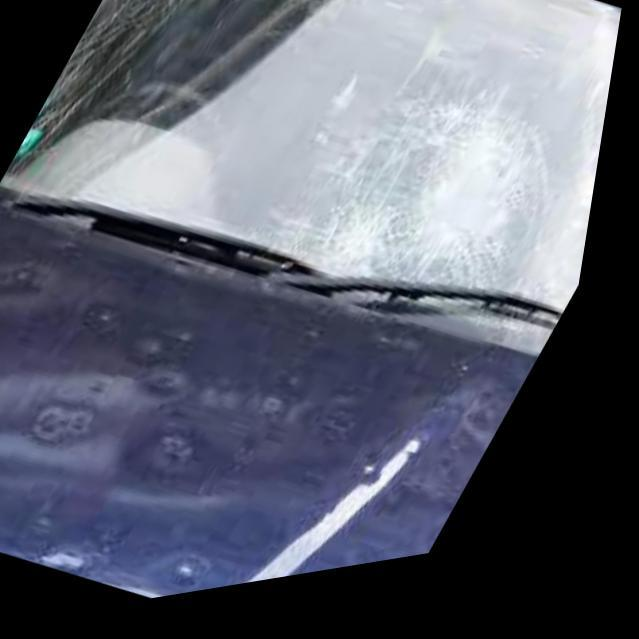glass shatter: (298, 112, 547, 312)
no part: (0, 287, 418, 603)
